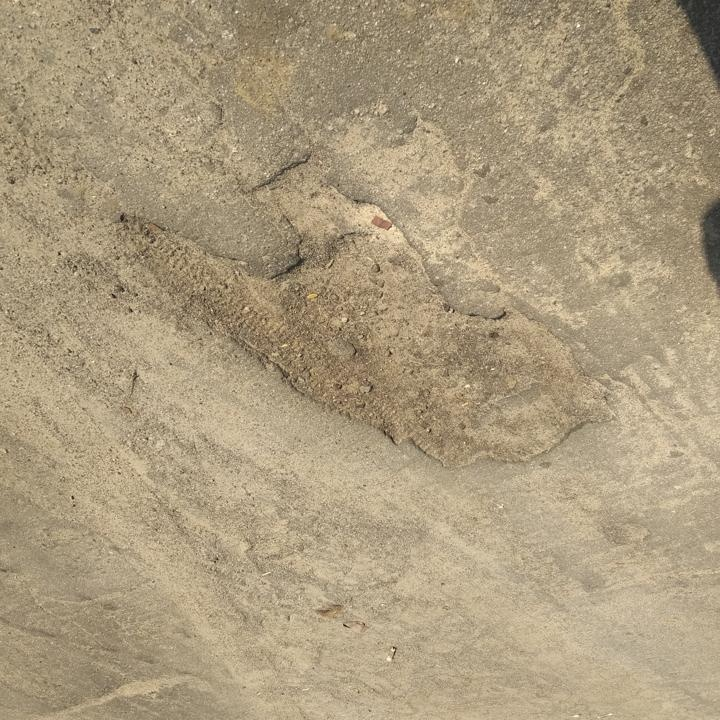pothole: (108, 149, 621, 476)
